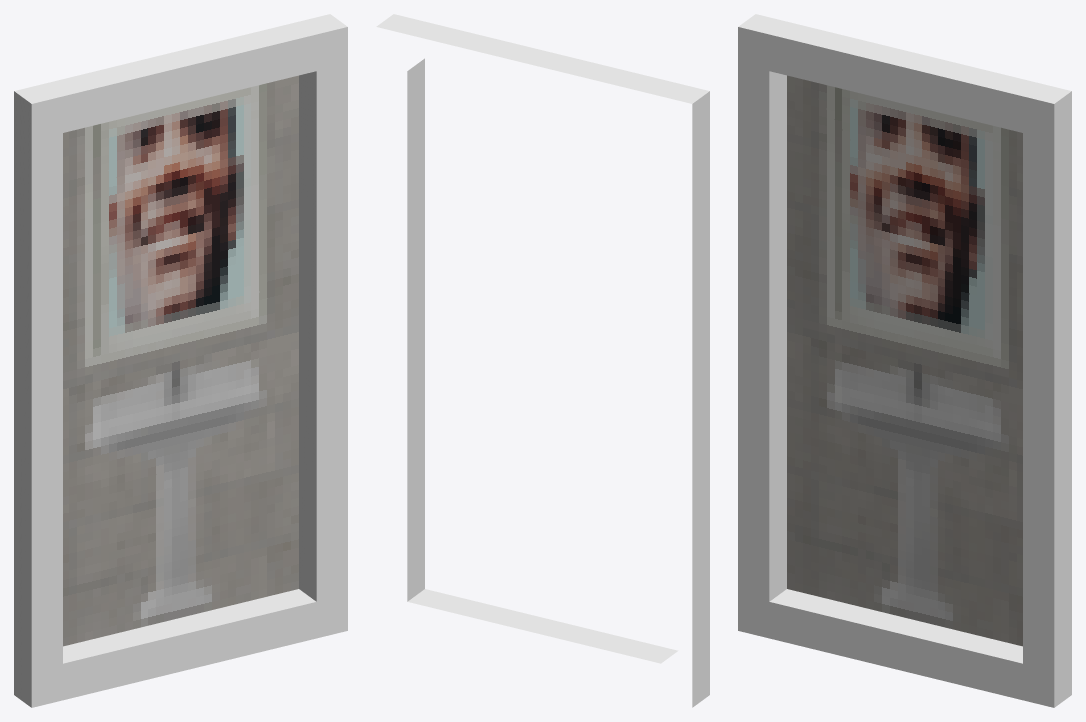
The model's file is Room18Sink2.glb.
3 views of the same model, side by side, from view 1: azimuth 30°, elevation 25°; view 2: azimuth 150°, elevation 25°; view 3: azimuth 330°, elevation 25° (orthographic).
Parts seen in each view (by area): view 1: Frame.006, CanvasBottom, CanvasTop; view 2: Frame.006; view 3: Frame.006, CanvasBottom, CanvasTop.
Part boxes in pixels (left/top/right/bottom): Frame.006: left=14, top=14, right=347, bottom=707; CanvasBottom: left=63, top=323, right=298, bottom=646; CanvasTop: left=63, top=75, right=298, bottom=380; Frame.006: left=376, top=14, right=709, bottom=707; Frame.006: left=738, top=14, right=1071, bottom=707; CanvasBottom: left=787, top=323, right=1022, bottom=646; CanvasTop: left=787, top=75, right=1022, bottom=380.
Bounding box in the file's own units: 1.25 × 2.28 × 0.1203.
3 materials, 2 textured.
